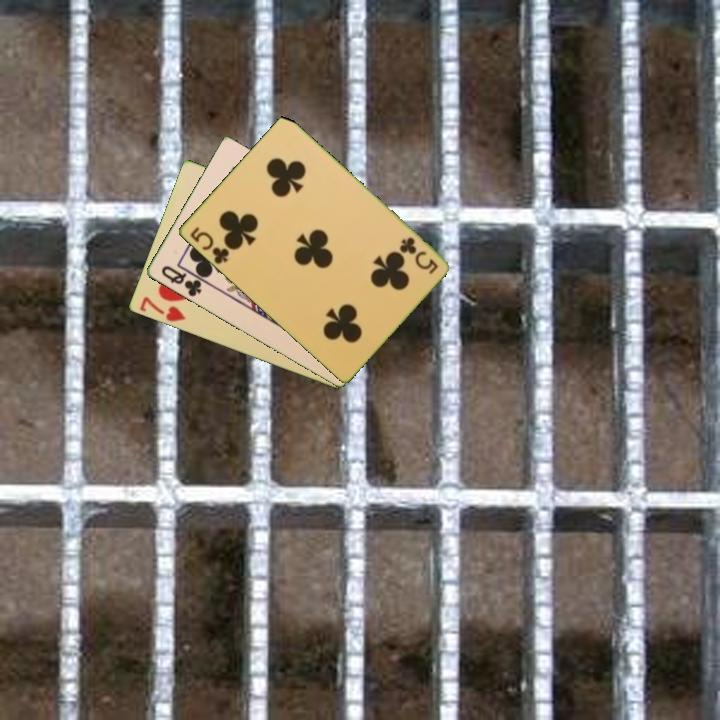5c: (186, 223, 232, 267), (395, 233, 440, 277)
7h: (136, 293, 189, 325)
Qc: (157, 262, 204, 300)
